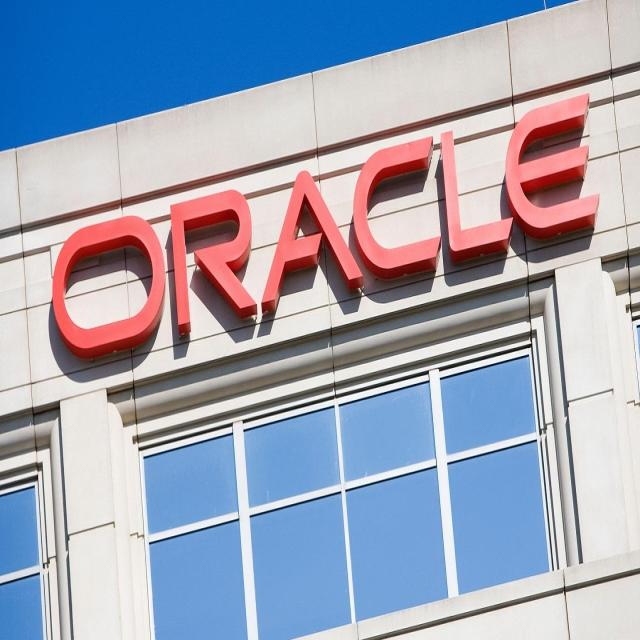oracle: (45, 93, 602, 362)
